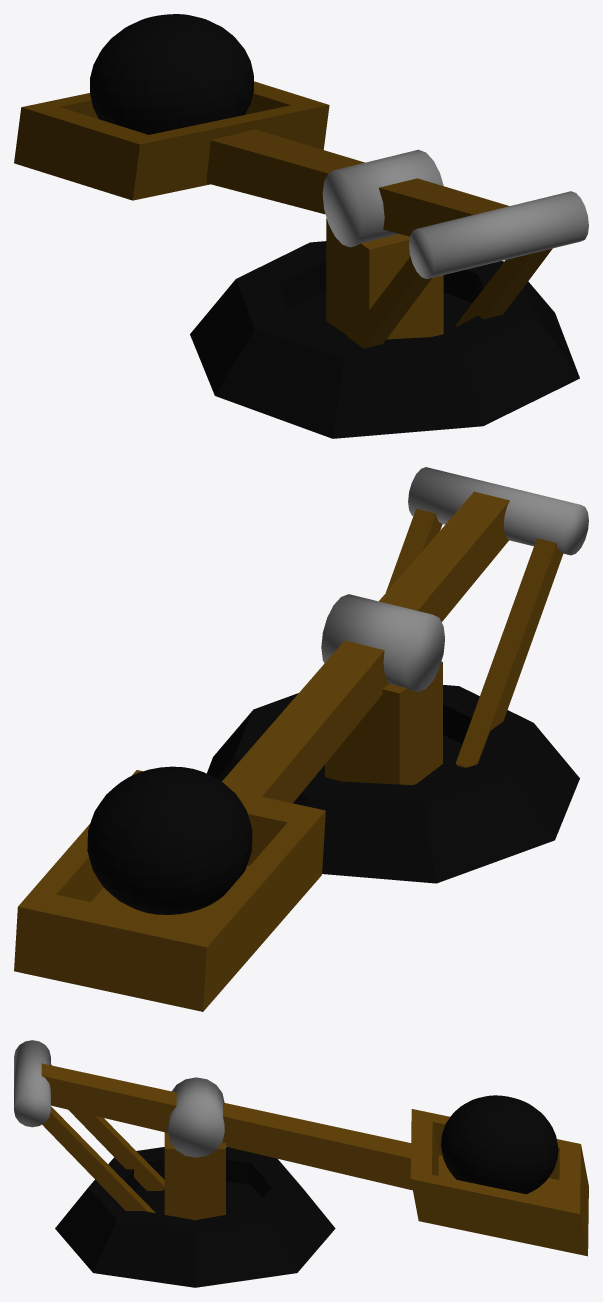
Rendered from Catapulta.fbx.
3 renders of one model, top to bottom at view 1: azimuth 30°, elevation 25°; view 2: azimuth 150°, elevation 25°; view 3: azimuth 270°, elevation 25°, orthographic. The views are drawn at different scales.
Parts seen in each view (by area): view 1: Base, Base.001, Base.002; view 2: Base.001, Base, Base.002; view 3: Base.001, Base, Base.002.
Boxes of the visible parts, x1,y1,x2,y2 form: Base: [190, 218, 579, 438]; Base.001: [14, 14, 509, 247]; Base.002: [348, 191, 588, 348]; Base.001: [14, 491, 509, 1011]; Base: [207, 661, 579, 883]; Base.002: [386, 467, 588, 767]; Base.001: [41, 1063, 588, 1256]; Base: [55, 1132, 335, 1287]; Base.002: [14, 1040, 164, 1213].
Size of the model in its own units: 360 by 231 by 737.
